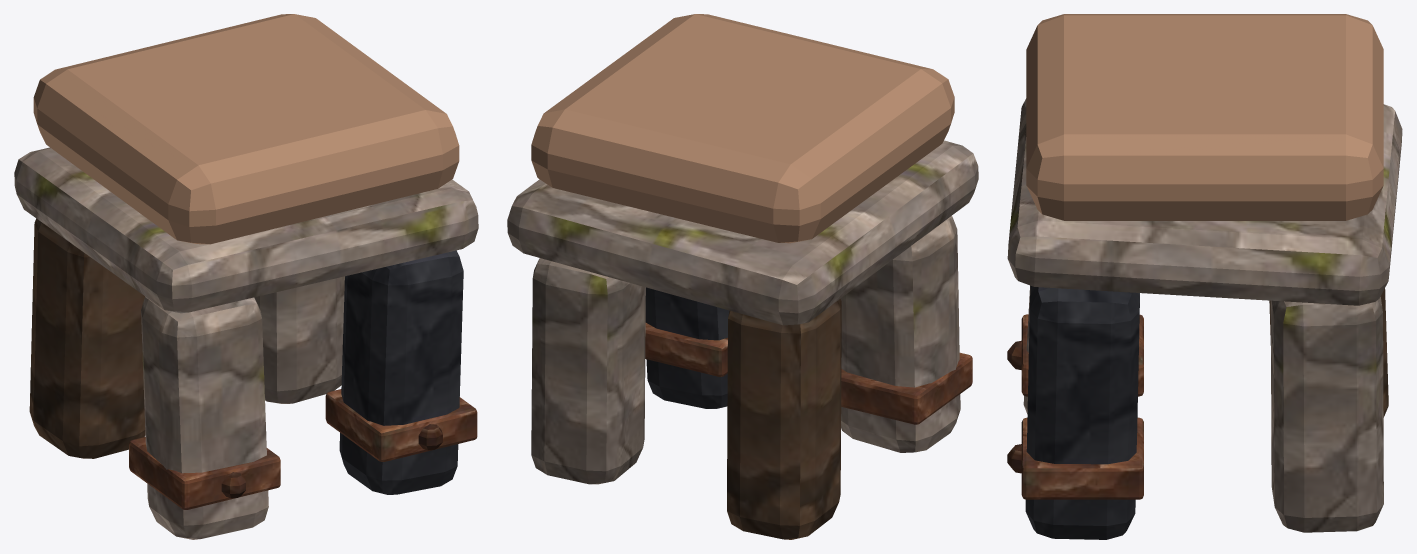
Rendered from stone_stool.glb.
The picture shows the model from 3 angles, left to right: view 1: azimuth 30°, elevation 25°; view 2: azimuth 150°, elevation 25°; view 3: azimuth 270°, elevation 25°; orthographic projection. The views are drawn at different scales.
Visible parts, largest first — view 1: model; view 2: model; view 3: model.
Part boxes in pixels (x1,y1,x2,y2): model: (14, 14, 478, 539); model: (507, 14, 978, 539); model: (1007, 14, 1402, 539).
Size of the model in its own units: 0.4272 by 0.4728 by 0.4202.
7 materials, 6 textured.
